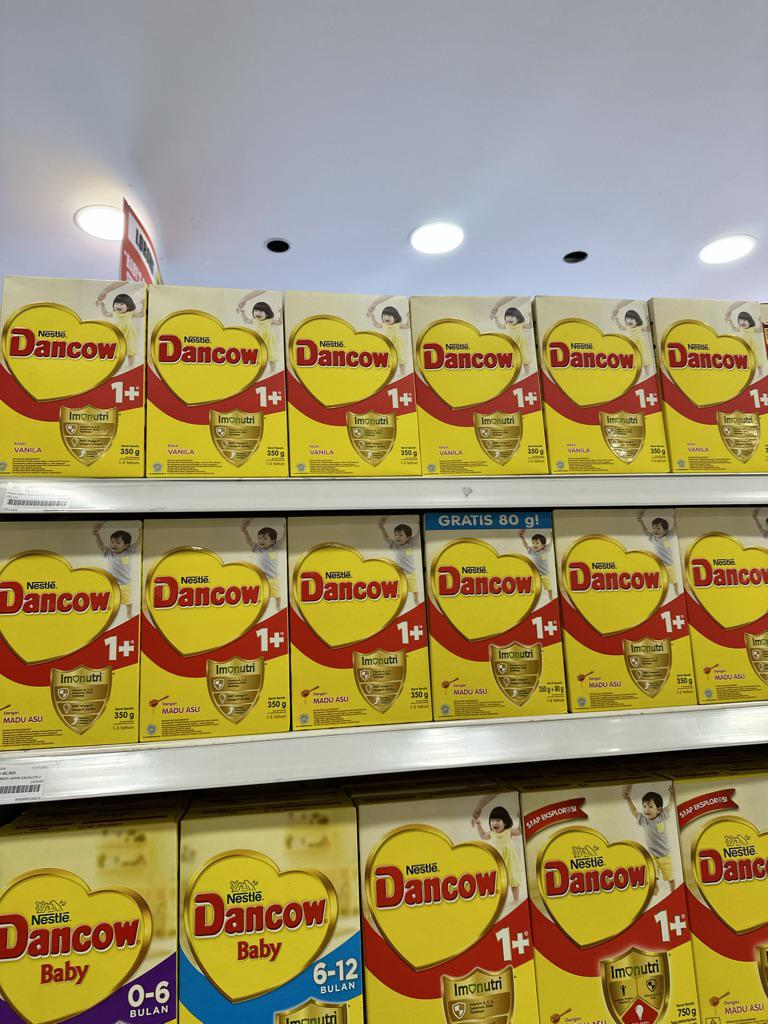DANCOW 1+ Madu Advn ExcNutr 24x400g N1 ID_REDESIGN3: (140, 516, 290, 738), (0, 519, 141, 748), (289, 514, 433, 728), (560, 508, 697, 710), (414, 296, 545, 475), (540, 298, 668, 472), (657, 298, 768, 473), (684, 505, 768, 704)
DANCOW 1+ Van Advn ExcNutr 24x400g ID_REDESIGN3: (0, 278, 147, 477), (147, 288, 289, 477), (287, 294, 419, 474), (415, 296, 546, 472), (542, 299, 666, 471)
